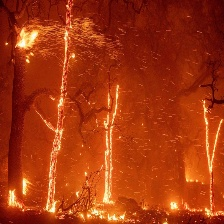fire: (6, 172, 223, 224), (44, 76, 70, 219), (99, 80, 123, 207), (197, 100, 223, 171), (11, 22, 45, 60)
